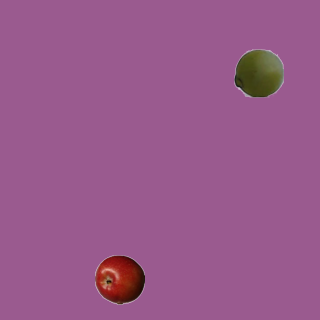Apple Braeburn: (94, 254, 144, 304)
Grape White 4: (233, 47, 283, 97)
